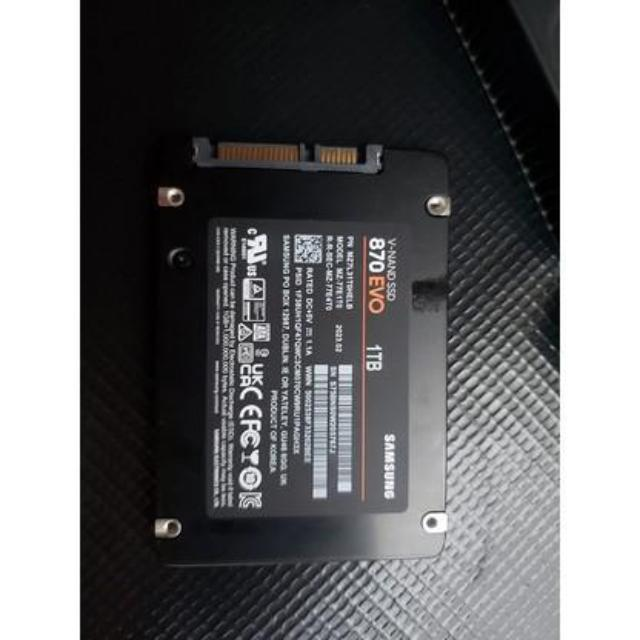DISK: (140, 128, 448, 570)
